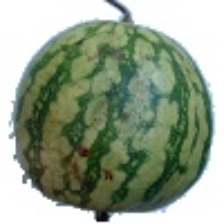watermelon: (5, 4, 193, 192)
